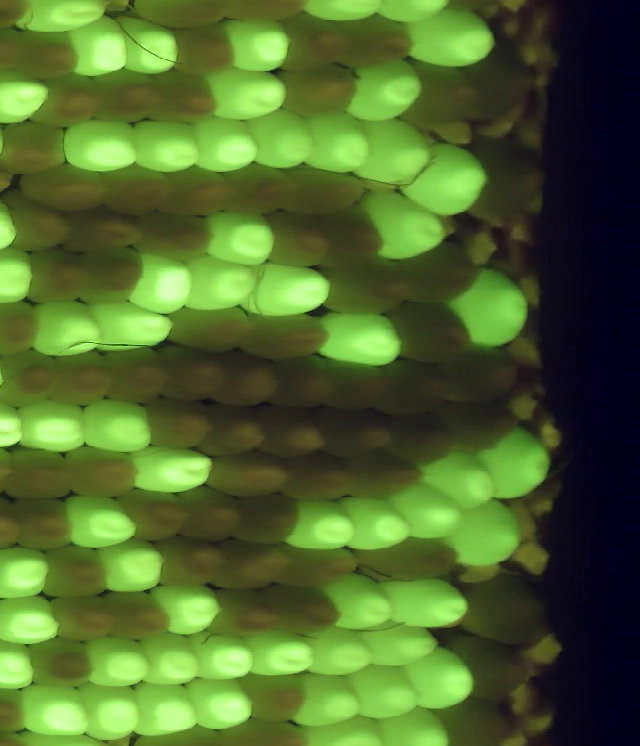fluorescent: (449, 259, 534, 355), (402, 139, 496, 218), (400, 1, 500, 73), (357, 185, 446, 264), (436, 491, 526, 569), (472, 424, 558, 505), (351, 112, 437, 190), (394, 642, 483, 715), (238, 259, 339, 323), (311, 304, 404, 372), (55, 486, 145, 556), (298, 105, 379, 180), (81, 298, 180, 359), (120, 248, 205, 319), (200, 62, 294, 126), (315, 569, 402, 638), (343, 52, 423, 127), (376, 571, 474, 632), (178, 253, 267, 318), (120, 441, 219, 499), (59, 112, 148, 176), (77, 392, 161, 459), (385, 479, 469, 545), (127, 111, 206, 181), (197, 206, 282, 271), (418, 447, 503, 512), (25, 297, 111, 361), (215, 11, 297, 78), (15, 680, 103, 742), (342, 663, 429, 724), (244, 106, 322, 174), (337, 489, 416, 555), (13, 395, 94, 459), (113, 9, 186, 80), (189, 110, 264, 179), (72, 679, 150, 745), (290, 669, 370, 732), (78, 632, 158, 693), (182, 675, 260, 736), (127, 680, 205, 741), (148, 579, 226, 639), (355, 618, 441, 672), (296, 624, 376, 682), (94, 538, 170, 599), (134, 629, 208, 691), (285, 493, 361, 553), (65, 13, 133, 79), (181, 626, 262, 680), (242, 624, 321, 679), (11, 1, 117, 39), (370, 700, 454, 746), (0, 591, 65, 645), (294, 710, 391, 746), (0, 541, 55, 604), (0, 66, 55, 128), (0, 632, 43, 695), (0, 243, 41, 309), (0, 398, 30, 453)
nonfluorescent: (463, 134, 550, 226), (457, 29, 537, 129), (460, 572, 555, 652), (441, 628, 532, 706), (395, 55, 485, 133), (383, 298, 483, 368), (316, 252, 416, 320), (345, 534, 467, 589), (391, 237, 485, 308), (329, 11, 422, 76), (311, 203, 392, 276), (31, 539, 117, 606), (275, 60, 363, 124), (371, 358, 459, 422), (237, 309, 339, 364), (217, 158, 306, 221), (161, 301, 257, 359), (274, 9, 357, 76), (61, 441, 145, 507), (206, 345, 286, 414), (277, 163, 372, 221), (442, 340, 525, 405), (258, 207, 336, 276), (0, 189, 78, 257), (171, 481, 249, 549), (126, 206, 219, 263), (253, 400, 332, 467), (206, 535, 294, 595), (338, 445, 432, 501), (17, 160, 118, 212), (377, 412, 463, 473), (153, 339, 231, 406), (258, 577, 345, 637), (205, 445, 296, 502), (87, 63, 168, 127), (138, 392, 219, 455), (264, 350, 342, 415), (116, 483, 195, 547), (94, 161, 181, 219), (75, 240, 148, 309), (25, 69, 106, 131), (157, 163, 243, 221), (144, 69, 227, 129), (0, 442, 79, 505), (275, 539, 368, 592), (431, 398, 525, 450), (5, 491, 79, 557), (200, 581, 281, 641), (166, 19, 245, 80), (225, 491, 306, 550), (310, 405, 395, 461), (98, 341, 171, 406), (435, 693, 524, 746), (278, 448, 356, 508), (197, 401, 271, 464), (19, 244, 94, 306), (319, 354, 394, 416), (58, 206, 145, 259), (153, 533, 230, 591), (0, 118, 73, 179), (25, 634, 98, 695), (7, 26, 85, 83), (99, 588, 177, 645), (46, 589, 123, 646), (237, 669, 309, 727), (50, 349, 116, 411), (0, 349, 64, 412), (129, 1, 233, 35), (0, 295, 45, 357), (0, 678, 35, 739), (0, 22, 35, 82), (0, 1, 35, 39)
